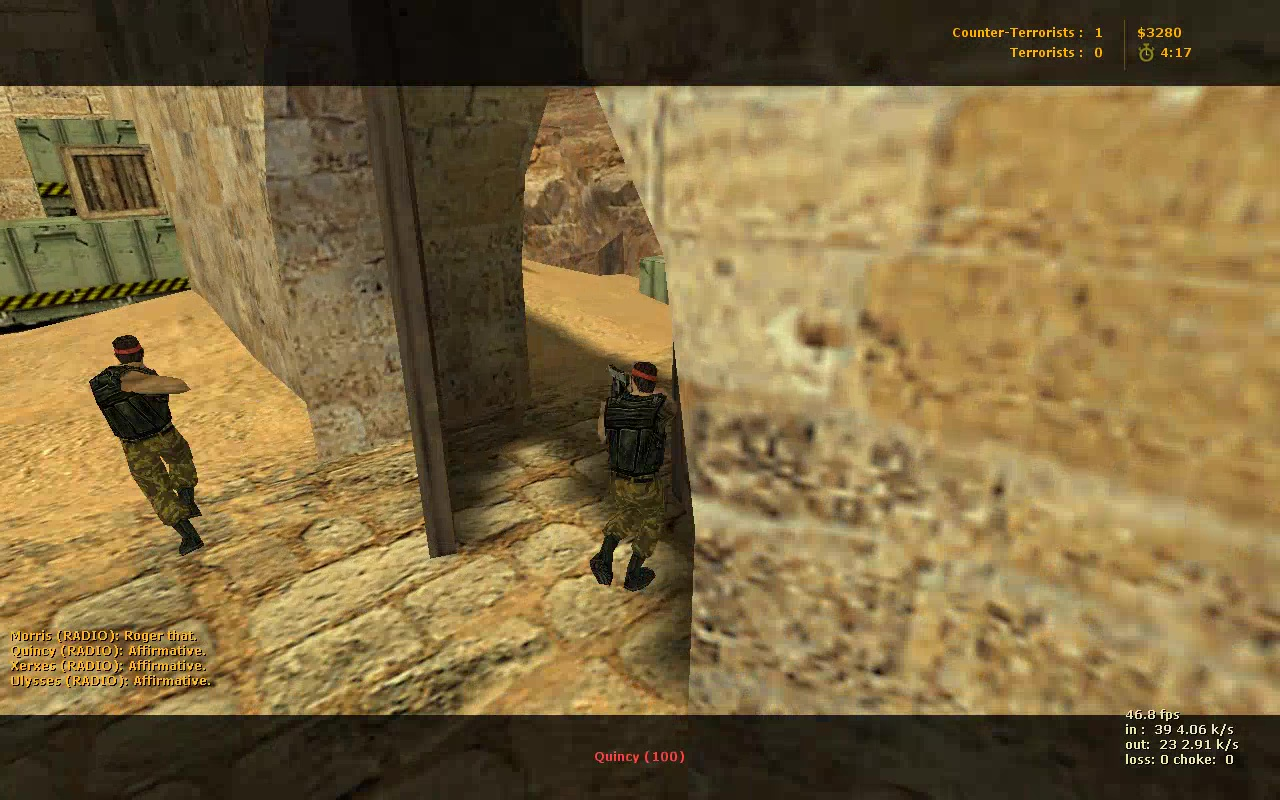terr1: (88, 336, 217, 554), (596, 361, 672, 594)
